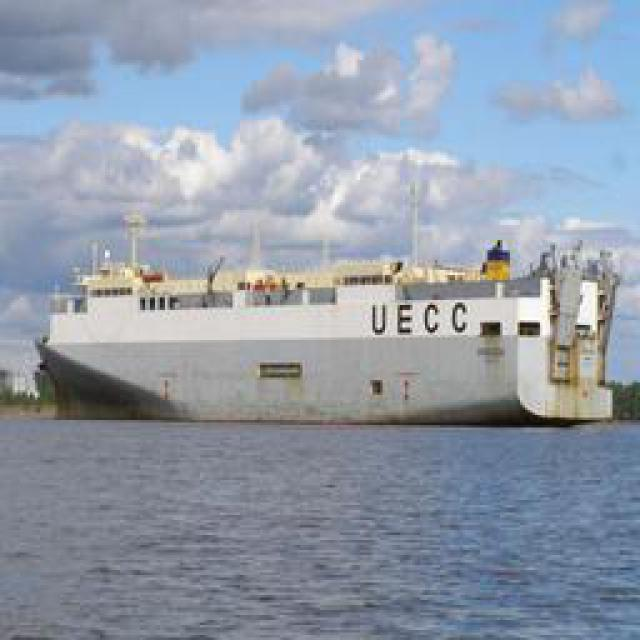Ship: (24, 226, 629, 424)
